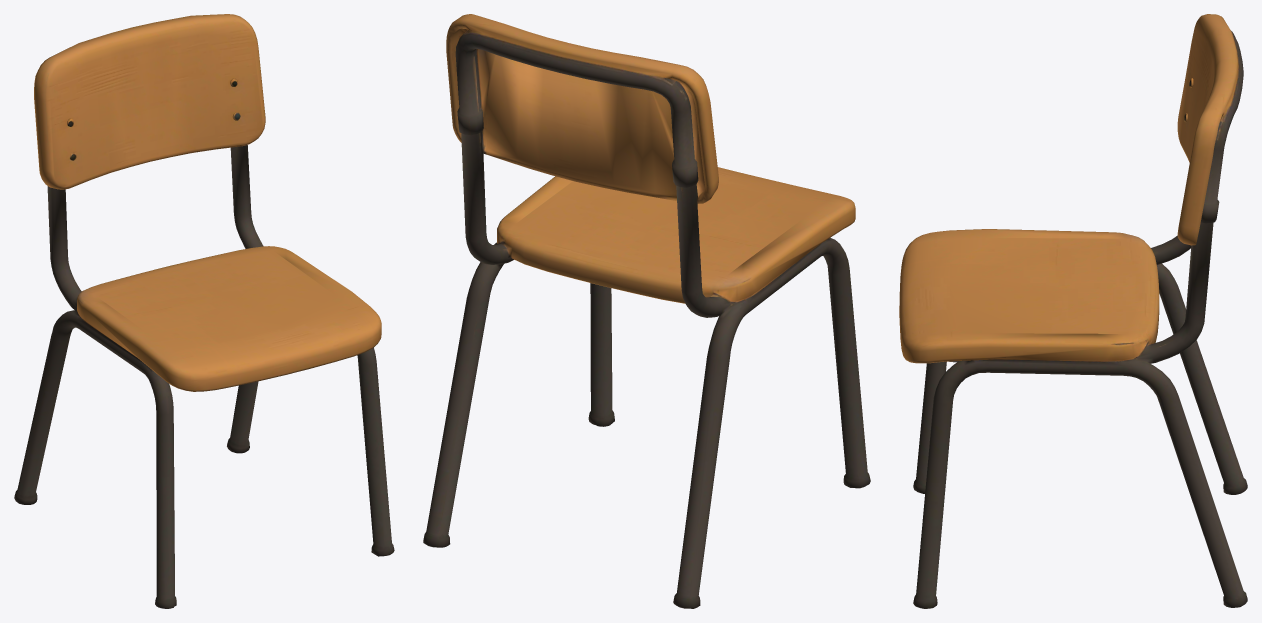
The model's file is Furniture__a_test_chair_03a8d5cc_v1.cluster.glb.
3 views of the same model, side by side, from view 1: azimuth 30°, elevation 25°; view 2: azimuth 150°, elevation 25°; view 3: azimuth 270°, elevation 25° (orthographic). The views are drawn at different scales.
Parts seen in each view (by area): view 1: material; view 2: material; view 3: material.
Boxes of the visible parts, x1,y1,x2,y2 form: material: [14, 14, 394, 608]; material: [423, 14, 870, 608]; material: [899, 14, 1247, 608].
Bounding box in the file's own units: 1.05 × 1.9 × 1.23.
1 material, 1 textured.
